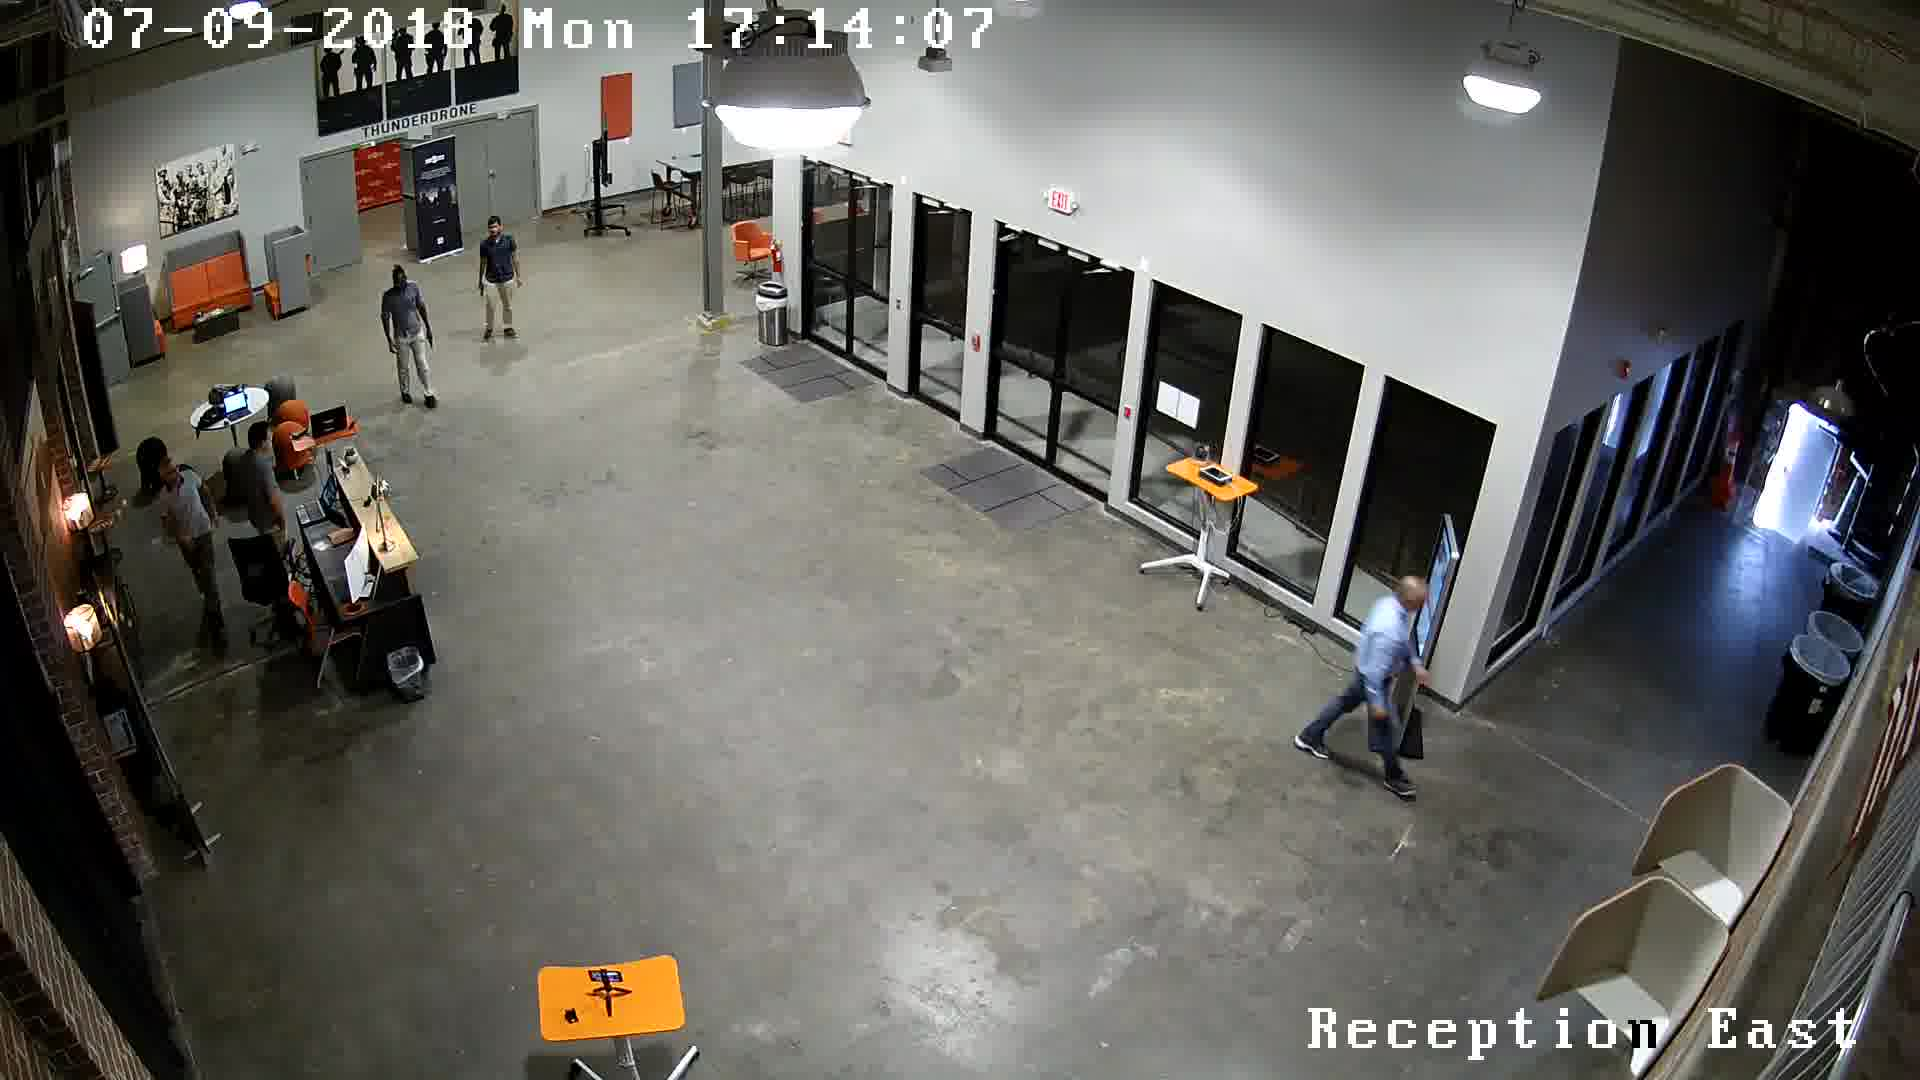pistol: (419, 323, 444, 353), (471, 277, 491, 307)
